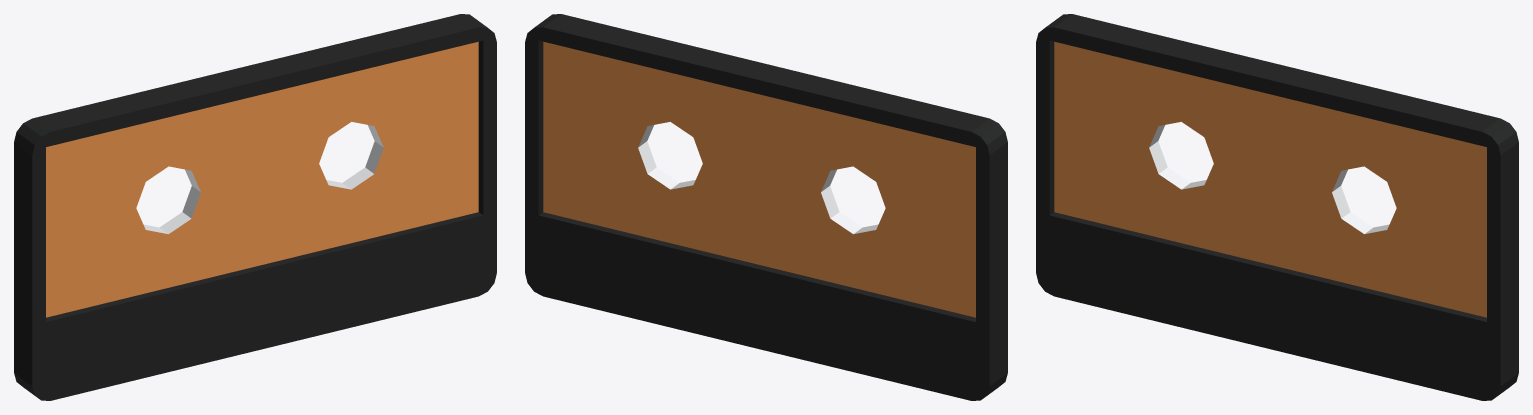
The model's file is Casette_04.fbx.
3 renders of one model, left to right at view 1: azimuth 30°, elevation 25°; view 2: azimuth 150°, elevation 25°; view 3: azimuth 330°, elevation 25°, orthographic.
Parts seen in each view (by area): view 1: Plane.065; view 2: Plane.065; view 3: Plane.065.
Boxes of the visible parts, x1=… form: Plane.065: x1=14, y1=14, x2=496, y2=400; Plane.065: x1=525, y1=14, x2=1007, y2=400; Plane.065: x1=1036, y1=14, x2=1518, y2=400.
Bounding box in the file's own units: 0.2966 × 0.0202 × 0.1642.
